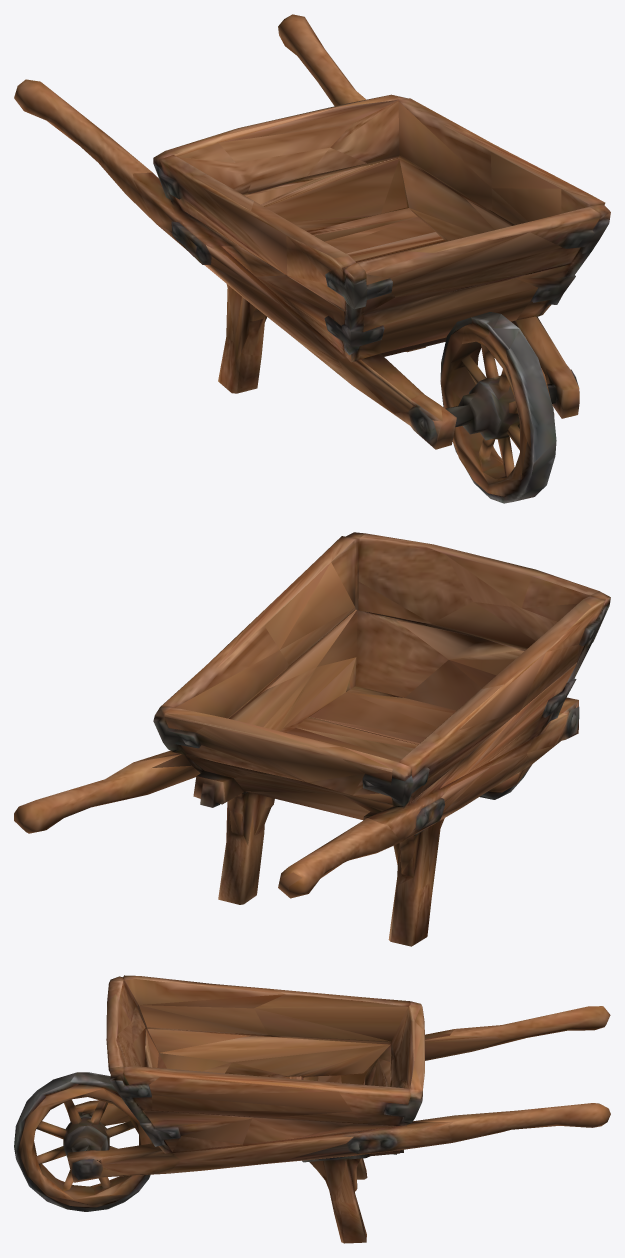
File: wheelbarrow.glb
The picture shows the model from 3 angles, top to bottom: view 1: azimuth 30°, elevation 25°; view 2: azimuth 150°, elevation 25°; view 3: azimuth 270°, elevation 25°; orthographic projection. The views are drawn at different scales.
Visible parts, largest first — view 1: wheelbarrow; view 2: wheelbarrow; view 3: wheelbarrow.
Part boxes in pixels (x1=…): wheelbarrow: x1=14, y1=14, x2=610, y2=503; wheelbarrow: x1=14, y1=532, x2=610, y2=946; wheelbarrow: x1=14, y1=975, x2=610, y2=1243.
Bounding box in the file's own units: 0.4224 × 0.3417 × 0.9821.
1 material, 1 textured.
